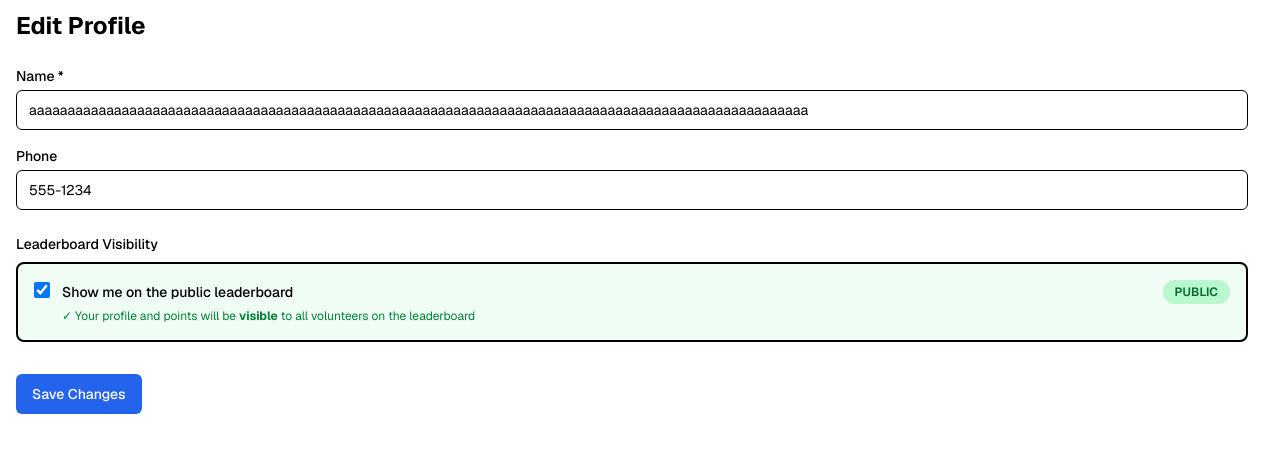
Test: ProfileEditForm › Validation › should show error when name exceeds 100 characters
This screenshot has width=1265, height=455.
Click the button "Save Changes" at (79, 394), box left=16, top=374, right=142, bottom=414
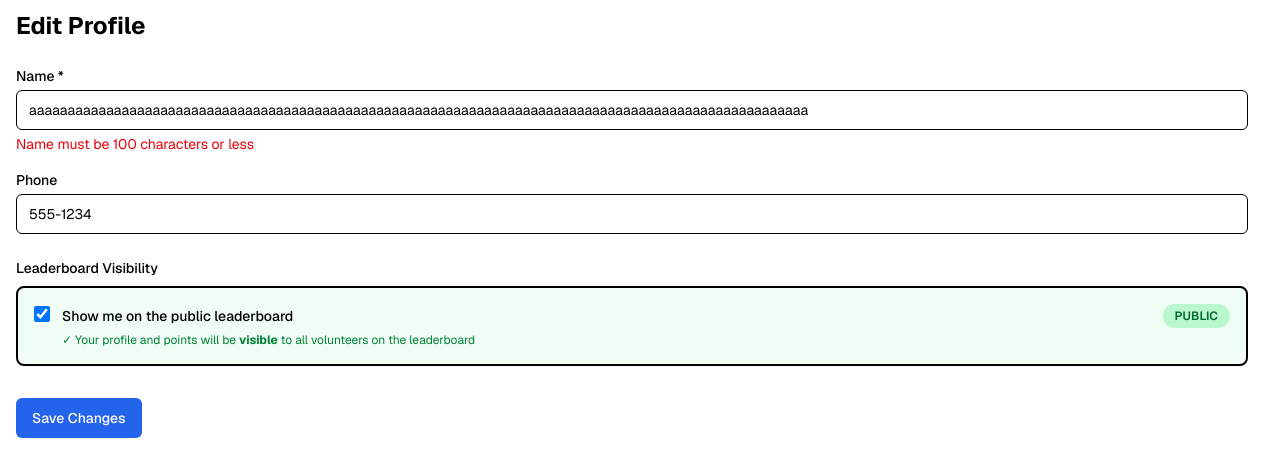
Result: the text "Name must be 100 characters or less" is shown at left=16, top=135, right=254, bottom=153
